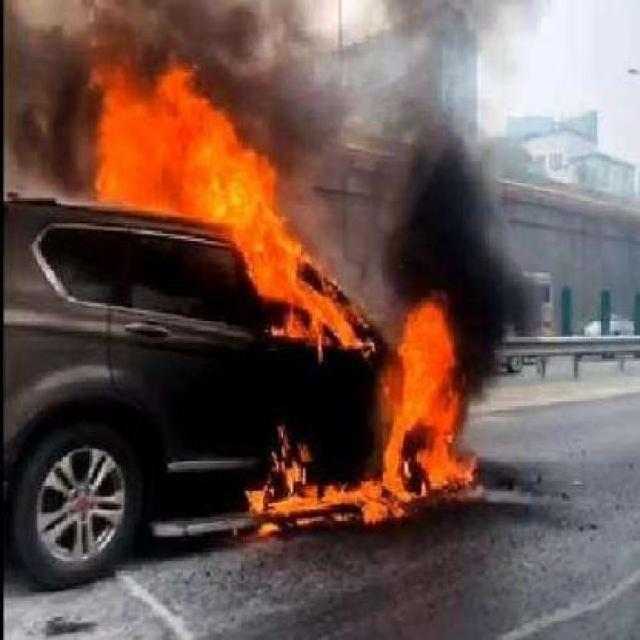Fire: (80, 21, 372, 362), (374, 289, 479, 529), (234, 406, 370, 538)
Smoke: (387, 29, 551, 333)
